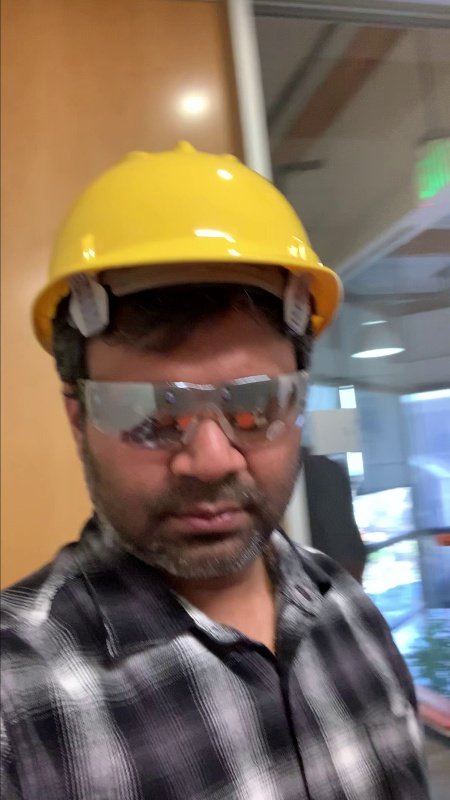glasses: (73, 364, 315, 450)
helmet: (17, 133, 350, 345)
